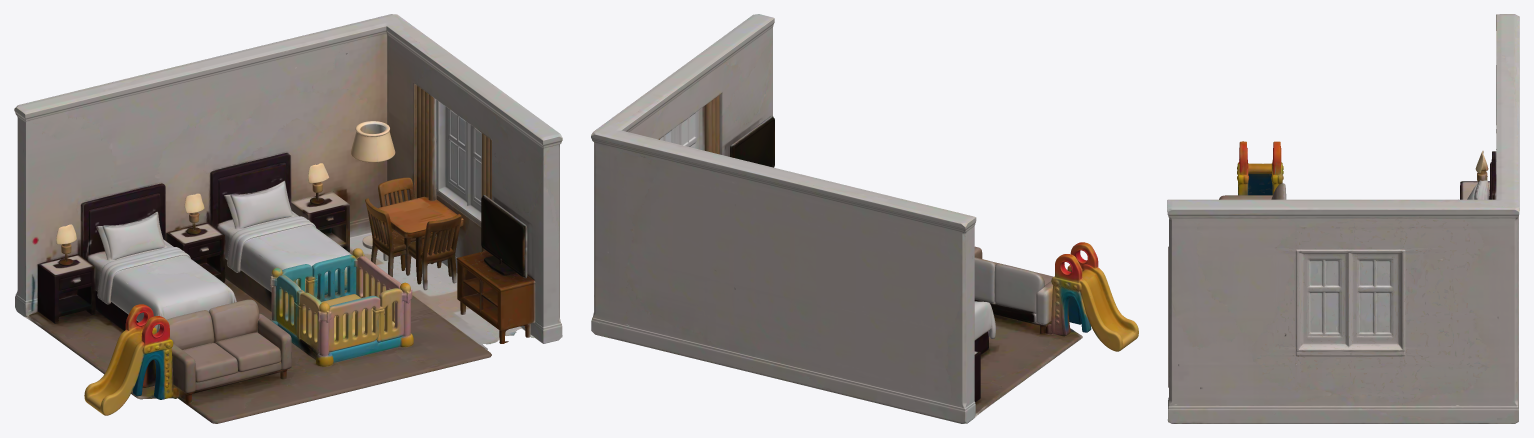
3 renders of one model, left to right at view 1: azimuth 30°, elevation 25°; view 2: azimuth 150°, elevation 25°; view 3: azimuth 270°, elevation 25°, orthographic. The views are drawn at different scales.
Visible parts, largest first — view 1: material; view 2: material; view 3: material.
Boxes of the visible parts, bbox=[...] form: material: bbox=[14, 14, 562, 423]; material: bbox=[591, 14, 1138, 423]; material: bbox=[1167, 14, 1519, 423].
Size of the model in its own units: 0.9298 by 0.429 by 0.6344.
Materials: 1 (1 with a texture image).
